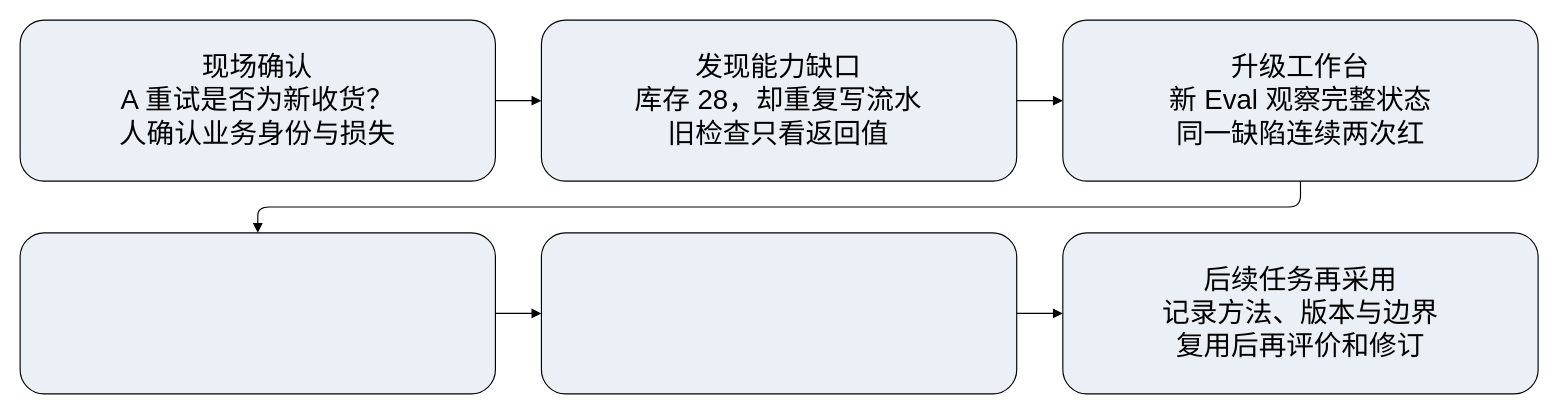
This 1558x414 diagram has some shape labels left out. Here are the shapes that lost their labels. From the top down, the box of each, then its label:
(19, 232, 495, 394): 组织产品修复 工作台约束候选与范围 Codex 修入库逻辑
(540, 232, 1017, 394): 原检查复验与审核 库存与流水正确才交接 人决定接受或返工
